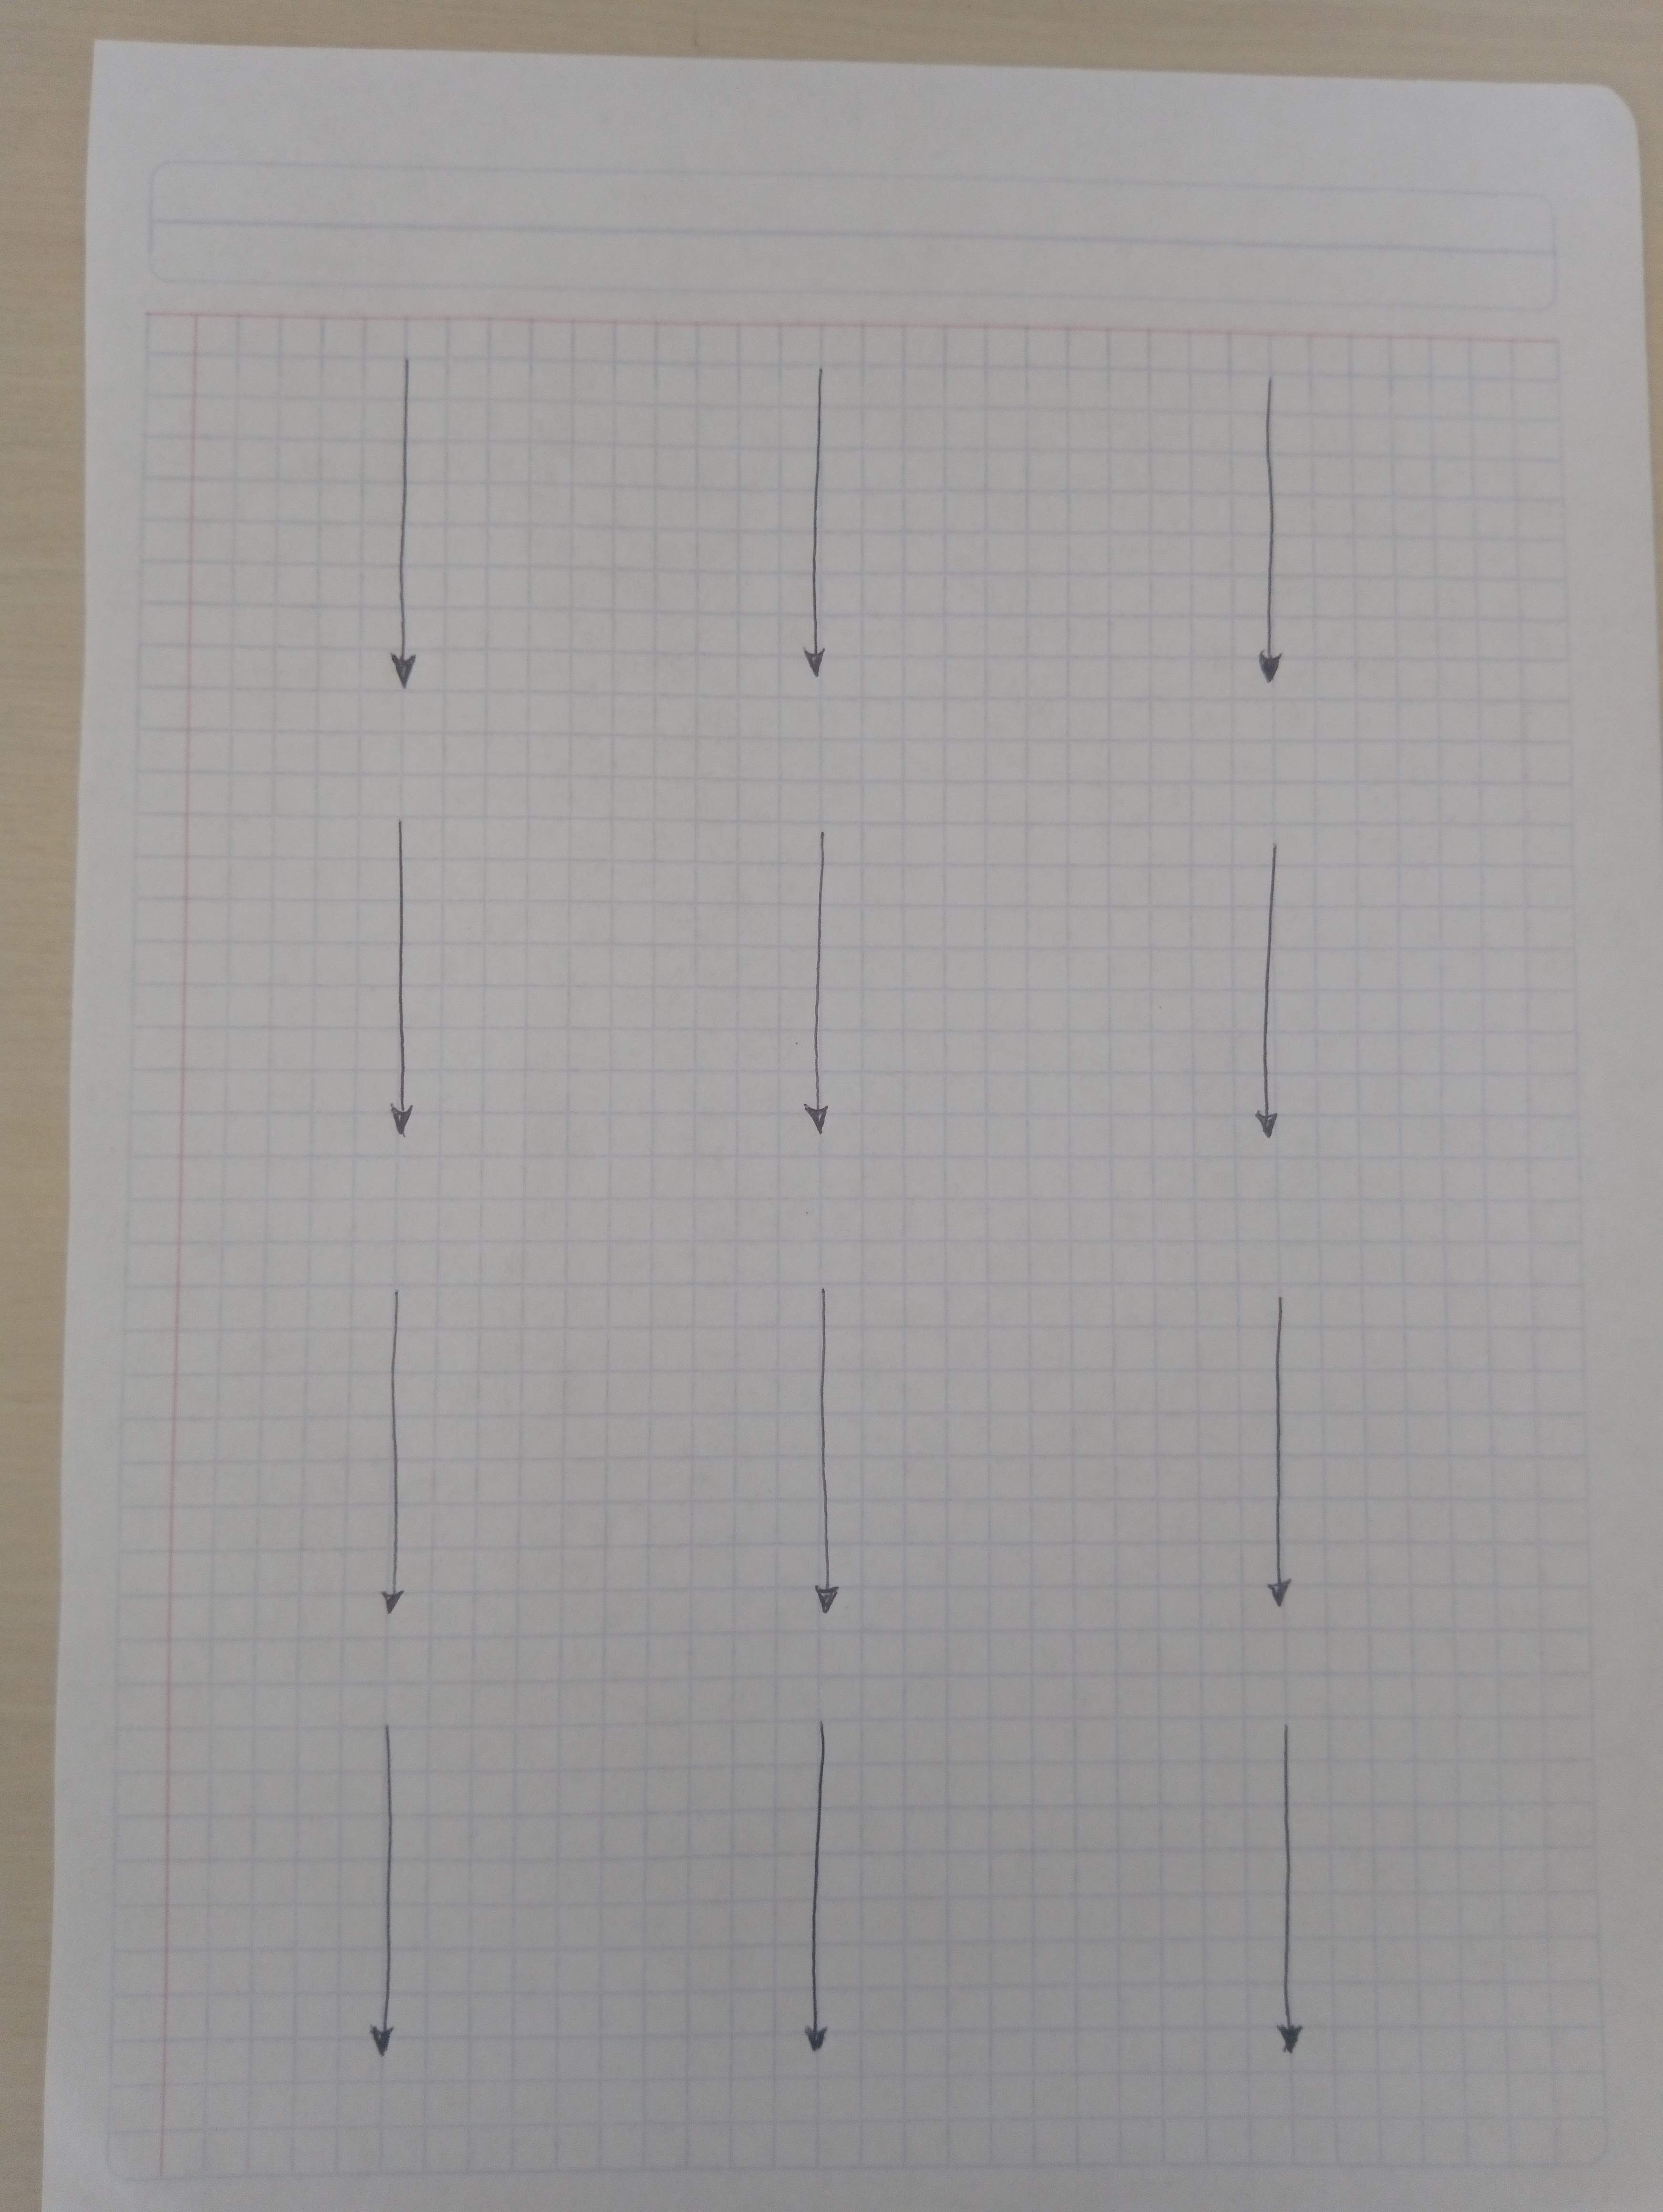arrow_line_down: (1240, 1723, 1338, 2092), (791, 1280, 877, 1636), (1240, 372, 1329, 709), (791, 353, 872, 718), (1252, 1283, 1333, 1639), (791, 833, 880, 1151), (365, 356, 442, 702), (1233, 833, 1310, 1151), (372, 821, 445, 1151), (365, 1278, 435, 1620), (360, 1720, 426, 2060), (795, 1713, 845, 2060)
